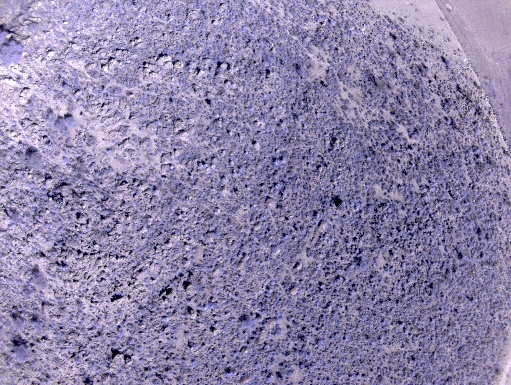agave: (223, 367, 236, 379), (264, 372, 276, 384), (316, 337, 327, 350), (259, 302, 267, 315), (189, 358, 199, 368), (335, 274, 345, 283), (126, 336, 136, 345), (306, 281, 315, 291), (264, 343, 272, 352), (273, 158, 281, 167), (342, 334, 350, 343), (283, 233, 291, 241), (273, 182, 281, 190), (136, 344, 144, 352), (237, 274, 245, 282), (393, 299, 401, 307), (355, 370, 362, 379), (318, 283, 328, 289), (298, 228, 308, 234), (224, 311, 232, 318), (238, 165, 245, 173), (233, 349, 240, 357), (299, 350, 306, 358), (212, 321, 221, 327), (98, 334, 105, 341), (348, 374, 355, 381), (147, 113, 155, 119), (223, 270, 229, 278), (365, 155, 373, 161), (38, 215, 45, 221), (62, 156, 68, 163), (138, 357, 145, 363), (370, 340, 376, 347), (264, 296, 272, 301), (45, 222, 50, 229), (264, 292, 271, 297)
